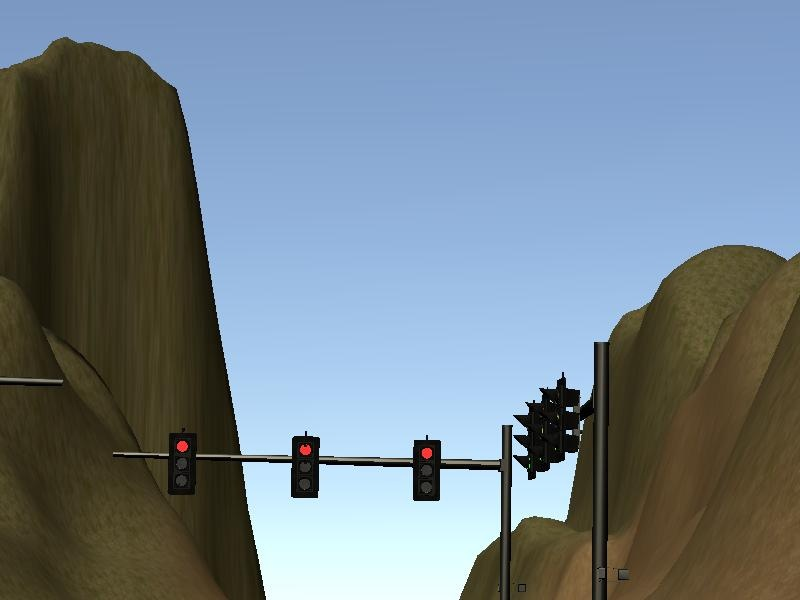traffic_light_red: (154, 424, 501, 504)
